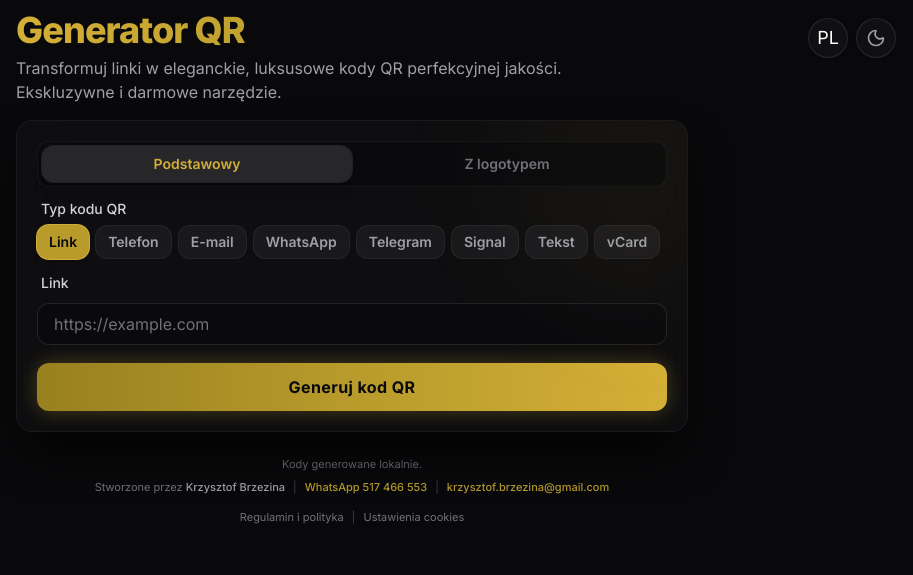
Home komponent › wyswietla blad walidacji dla pustego pola
Step 1. Click the button "Generuj kod QR" → (352, 387), box [37,363,667,411]
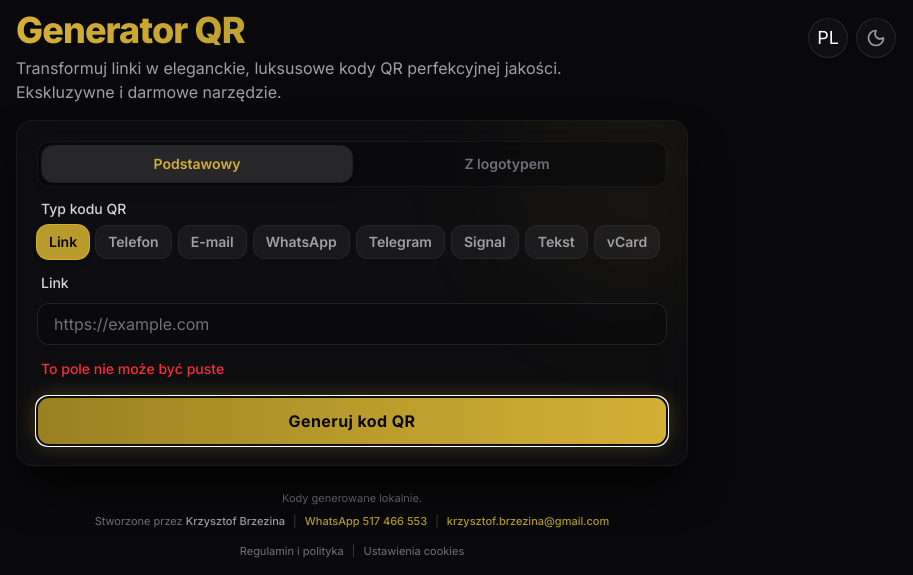
expect the text "To pole nie może być puste" is shown: met, box [41,360,224,377]
